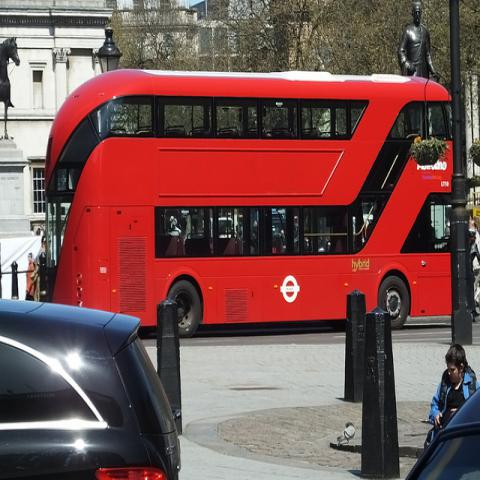bus: (40, 66, 455, 341)
car: (1, 298, 181, 474), (406, 386, 479, 479)
